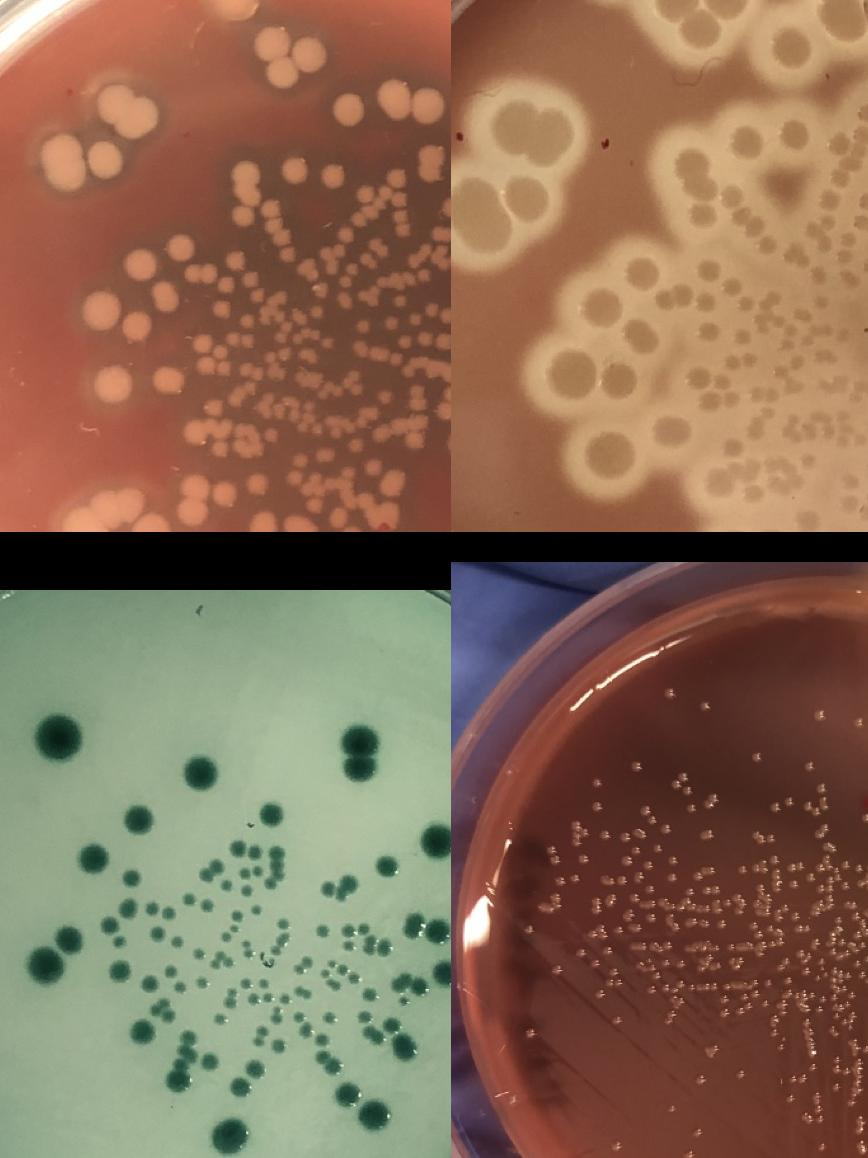assalmonicida: (843, 899, 868, 950), (854, 808, 868, 892), (800, 1090, 824, 1125), (800, 1018, 817, 1058), (660, 978, 695, 996), (536, 891, 561, 916), (812, 992, 838, 1014), (801, 796, 828, 816), (838, 983, 858, 1010), (676, 885, 695, 913), (816, 876, 834, 904), (734, 992, 752, 1018), (766, 1010, 780, 1038), (710, 897, 730, 916), (814, 854, 832, 874), (684, 916, 710, 929), (650, 940, 672, 955), (588, 922, 606, 938), (646, 963, 662, 981), (750, 858, 768, 874), (774, 904, 788, 924), (786, 1073, 808, 1085), (748, 922, 762, 940), (774, 957, 790, 972), (852, 954, 868, 969), (784, 861, 802, 874), (773, 928, 785, 947), (814, 822, 828, 838), (827, 936, 837, 957), (604, 978, 623, 989), (702, 884, 720, 895), (828, 966, 838, 985), (834, 915, 843, 934), (782, 1092, 796, 1104), (592, 898, 602, 914), (774, 1042, 786, 1054), (806, 1062, 818, 1074), (829, 1082, 841, 1094), (829, 1011, 841, 1023), (599, 876, 613, 886)
pddamselae: (651, 0, 752, 52), (250, 23, 328, 90), (40, 132, 124, 194), (22, 922, 88, 988), (78, 288, 154, 344), (93, 81, 160, 141), (488, 97, 548, 159), (585, 431, 634, 481), (548, 348, 594, 400), (260, 198, 296, 264), (343, 725, 379, 784), (174, 471, 210, 528), (372, 186, 410, 239), (819, 0, 868, 41), (36, 716, 80, 760), (92, 363, 132, 404), (192, 333, 229, 377), (580, 288, 620, 328), (729, 123, 769, 163), (773, 28, 811, 69), (508, 182, 548, 220), (620, 252, 659, 290), (174, 1042, 220, 1074), (600, 360, 638, 398), (652, 411, 690, 449), (672, 146, 710, 184), (330, 91, 366, 127), (408, 87, 444, 123), (354, 1100, 391, 1134), (121, 248, 157, 282), (76, 841, 112, 875), (119, 805, 155, 839), (182, 757, 218, 791), (211, 1120, 247, 1154), (317, 227, 353, 260), (416, 143, 444, 184), (151, 364, 186, 396), (420, 823, 451, 858), (163, 232, 196, 264), (228, 158, 260, 190), (278, 155, 308, 187), (318, 160, 348, 192), (264, 848, 286, 891), (327, 506, 363, 532), (629, 326, 660, 356), (780, 121, 809, 151), (415, 329, 451, 352), (166, 1058, 190, 1092), (315, 1050, 344, 1078), (182, 262, 218, 284), (130, 513, 170, 532), (241, 271, 264, 304), (219, 911, 242, 943), (433, 385, 451, 424), (271, 310, 291, 344), (697, 392, 722, 416), (244, 473, 268, 497), (686, 366, 710, 390), (719, 184, 743, 208), (338, 262, 360, 288), (292, 326, 320, 346), (224, 330, 255, 348), (698, 259, 721, 283), (316, 380, 342, 401), (200, 397, 224, 419), (229, 205, 253, 227), (360, 456, 384, 478), (758, 234, 780, 258), (130, 1022, 154, 1044), (244, 1059, 268, 1081), (224, 250, 247, 272), (198, 861, 222, 882), (207, 952, 234, 970), (98, 915, 120, 937), (108, 960, 130, 982), (116, 898, 138, 920), (120, 867, 142, 889), (138, 976, 160, 998), (228, 1077, 250, 1099), (260, 802, 282, 824), (336, 1083, 358, 1105), (376, 856, 398, 878), (394, 1039, 416, 1061), (403, 914, 425, 936), (209, 299, 232, 320), (428, 920, 449, 942), (346, 370, 363, 396), (208, 440, 230, 460), (386, 167, 406, 189), (326, 958, 348, 977), (292, 956, 312, 976), (364, 1026, 384, 1046), (148, 998, 170, 1016), (269, 936, 287, 957), (434, 962, 451, 984), (249, 992, 272, 1007), (391, 976, 414, 991), (252, 1026, 267, 1048), (438, 304, 451, 329), (216, 276, 234, 294), (291, 985, 312, 1000), (438, 194, 451, 218), (305, 496, 322, 514), (352, 341, 370, 358), (422, 302, 439, 320), (224, 988, 238, 1009), (382, 1018, 400, 1034), (362, 935, 376, 955), (443, 426, 451, 460), (350, 212, 365, 230), (357, 185, 372, 203), (408, 383, 424, 399), (240, 940, 253, 959), (396, 334, 411, 350), (404, 254, 421, 268), (270, 1007, 282, 1026), (237, 361, 251, 377), (238, 313, 252, 329), (262, 429, 278, 443), (302, 268, 318, 282), (276, 349, 293, 362), (286, 472, 301, 486), (292, 453, 306, 467), (310, 305, 324, 319), (320, 336, 334, 350), (354, 320, 368, 334), (358, 252, 372, 266), (384, 316, 398, 330), (388, 352, 402, 366), (408, 312, 422, 326), (416, 268, 430, 282), (391, 295, 405, 308), (302, 401, 316, 413), (348, 440, 362, 452), (376, 390, 390, 402), (434, 244, 448, 256), (112, 936, 126, 948), (144, 903, 158, 915), (162, 908, 176, 920), (230, 843, 244, 855), (240, 977, 254, 989), (240, 885, 254, 897), (298, 1025, 312, 1037), (316, 1033, 330, 1045), (322, 882, 336, 894), (340, 879, 354, 891), (214, 1013, 227, 1025), (249, 846, 262, 858), (276, 918, 289, 930), (323, 1013, 336, 1025), (378, 943, 391, 955), (295, 422, 307, 434), (151, 927, 163, 939), (162, 1012, 174, 1024), (164, 965, 176, 977), (172, 937, 184, 949), (174, 982, 186, 994), (183, 894, 195, 906), (192, 948, 204, 960), (197, 978, 209, 990), (201, 900, 213, 912), (220, 879, 232, 891), (238, 867, 250, 879), (250, 903, 262, 915), (252, 865, 264, 877), (257, 978, 269, 990), (272, 1040, 284, 1052), (280, 994, 292, 1006), (293, 1011, 305, 1023), (317, 925, 329, 937), (318, 968, 330, 980), (328, 980, 340, 992), (334, 891, 346, 903), (343, 941, 355, 953), (343, 926, 355, 938), (348, 972, 360, 984), (357, 924, 369, 936), (358, 1012, 370, 1024), (364, 989, 376, 1001), (398, 996, 410, 1008), (447, 252, 451, 270)
